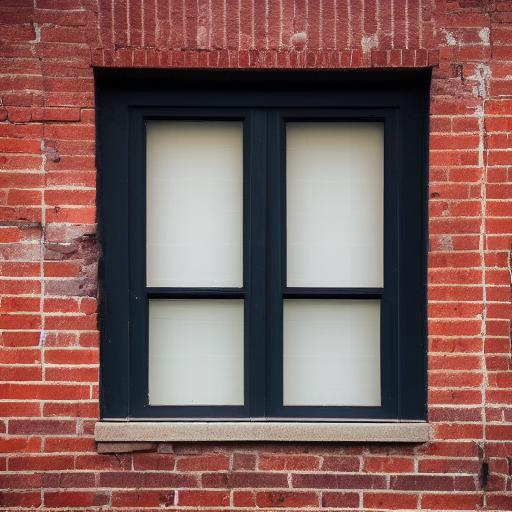Window: (93, 47, 435, 447)
